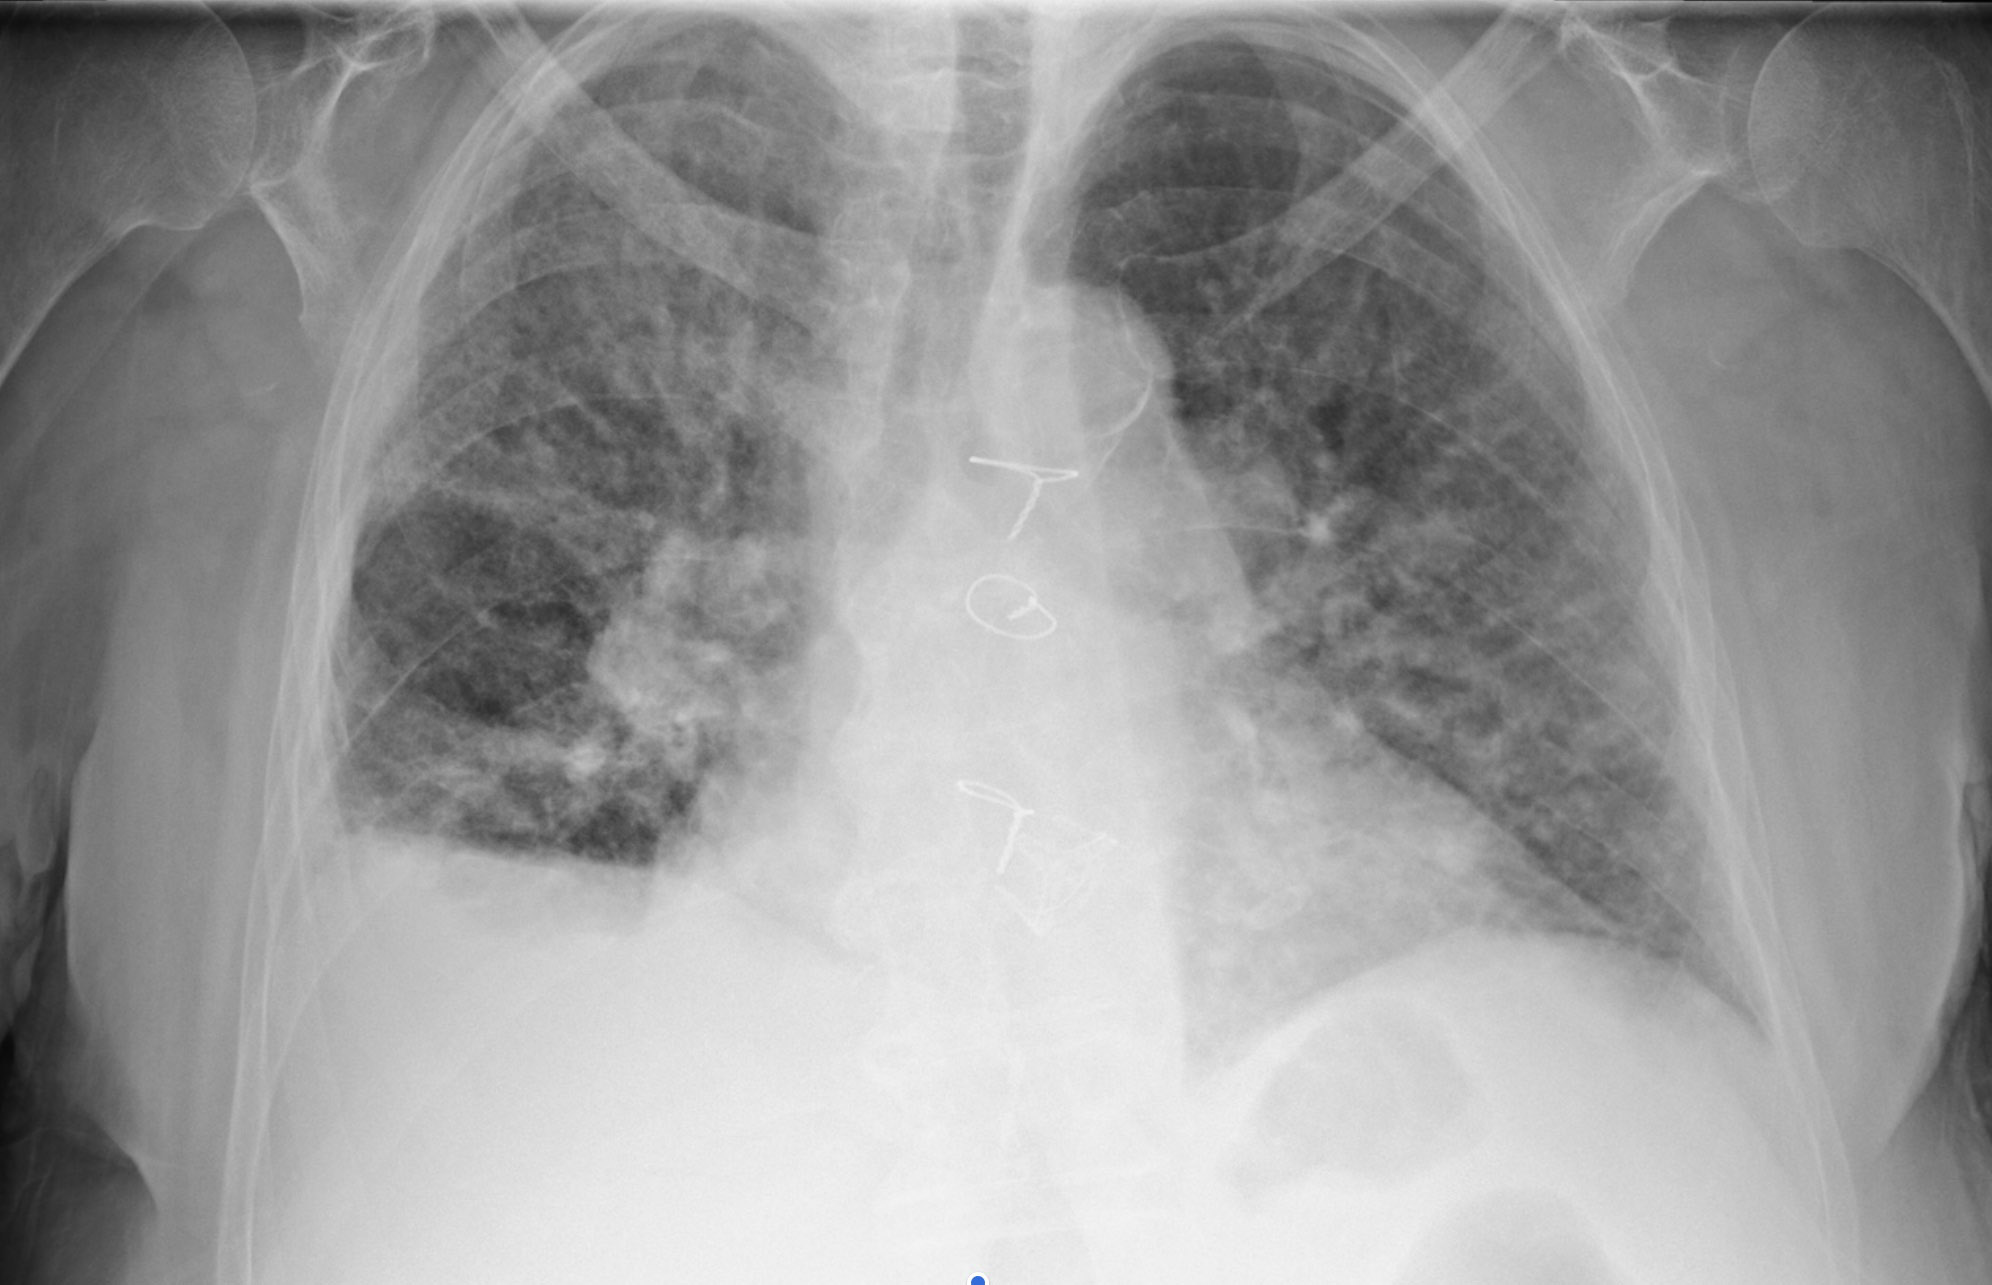Severe: (1032, 48, 1761, 1009), (321, 28, 878, 886)
